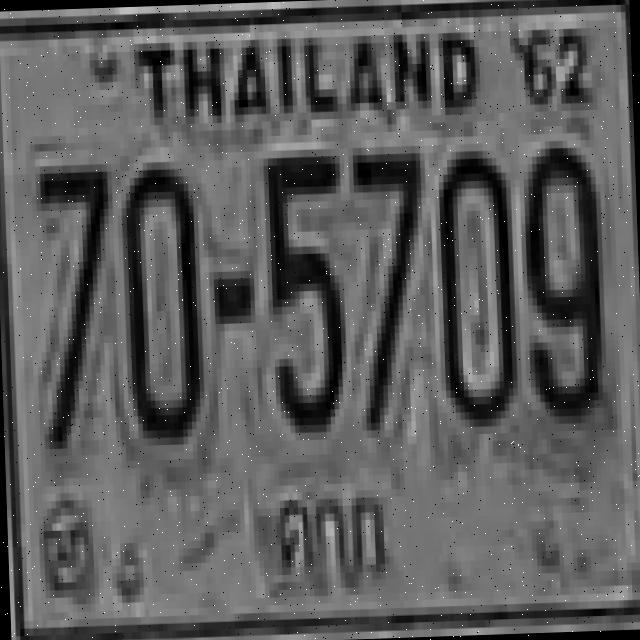0: (117, 153, 203, 438), (432, 142, 514, 420)
5: (258, 148, 344, 426)
7: (32, 156, 118, 448), (348, 145, 424, 430)
9: (517, 139, 603, 417)
Tak: (274, 478, 394, 596)
